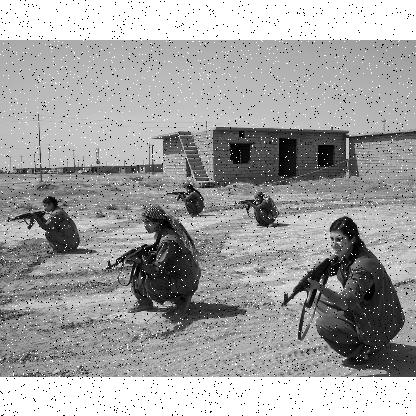gun: (291, 243, 375, 349), (105, 242, 159, 270), (5, 205, 48, 229), (232, 198, 256, 212), (164, 189, 190, 201)
